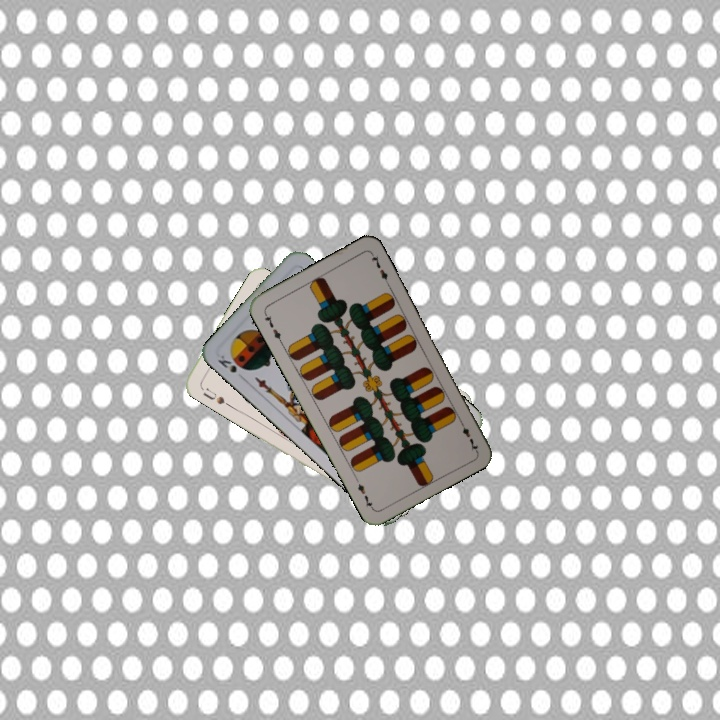E7: (260, 308, 285, 345), (455, 416, 480, 453)
SK: (213, 351, 247, 375)
SU: (199, 384, 227, 407)
